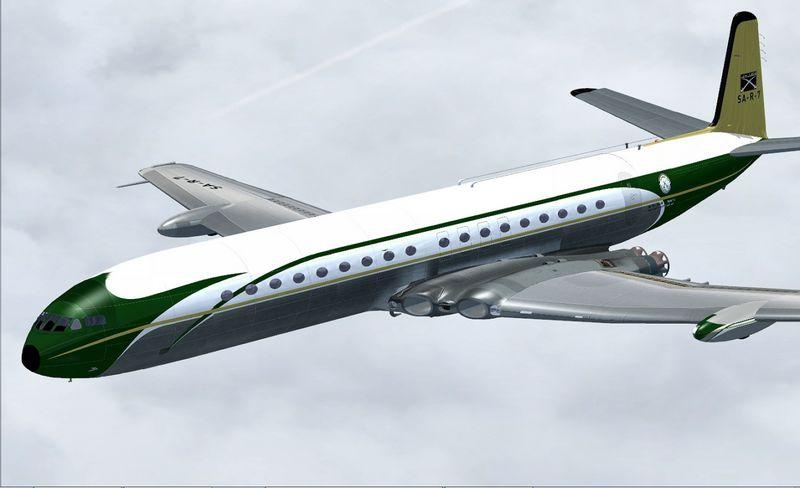airplane: (9, 13, 800, 395)
